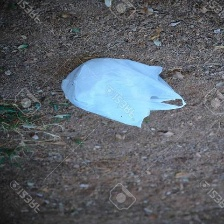plastic_bag: (57, 52, 188, 130)
